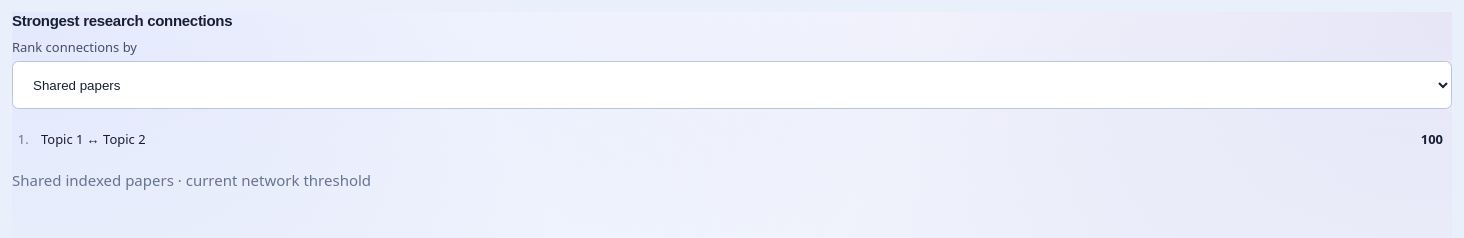
Strongest connections › handles empty and unavailable similarities without fabricating zero scores
Later steps or results of the test are not shown.
Select "Jaccard similarity" in the dropdown labelled "Rank connections by". click: (732,85)
box: [12,61,1452,109]
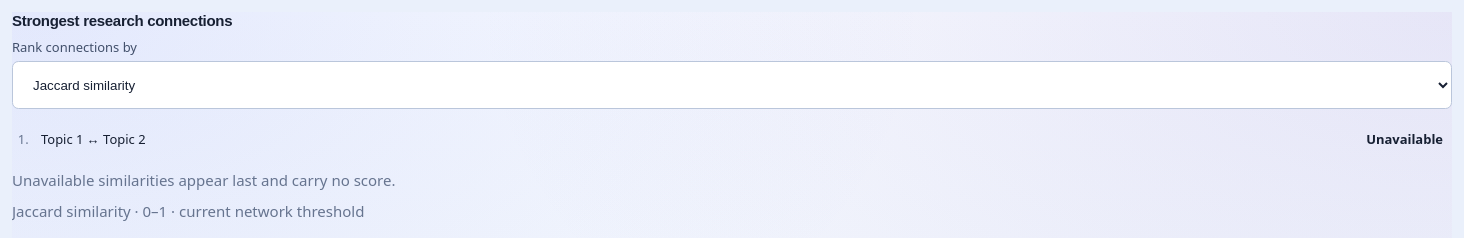
Now the button with aria-label "Select Topic 1 ↔ Topic 2: Jaccard Unavailable" is shown, box [32,117,1452,161]
Now the text "Unavailable similarities appear last and carry no score." is shown, box [12,170,396,190]
